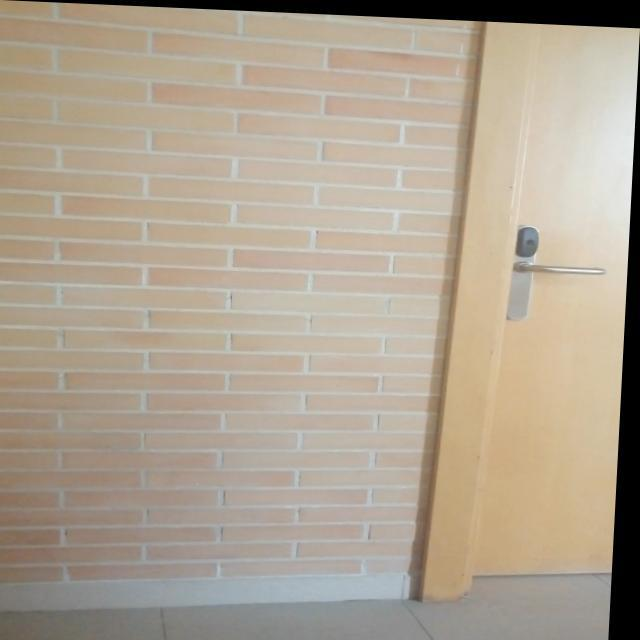door_handle: (515, 256, 614, 273)
